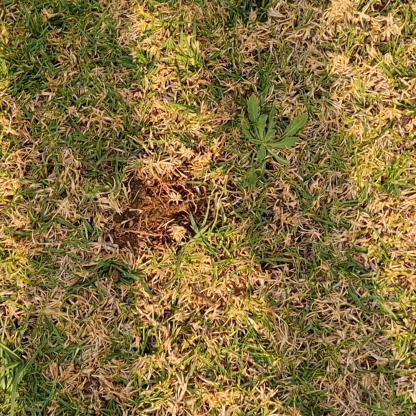Weeds: (244, 94, 308, 184)
